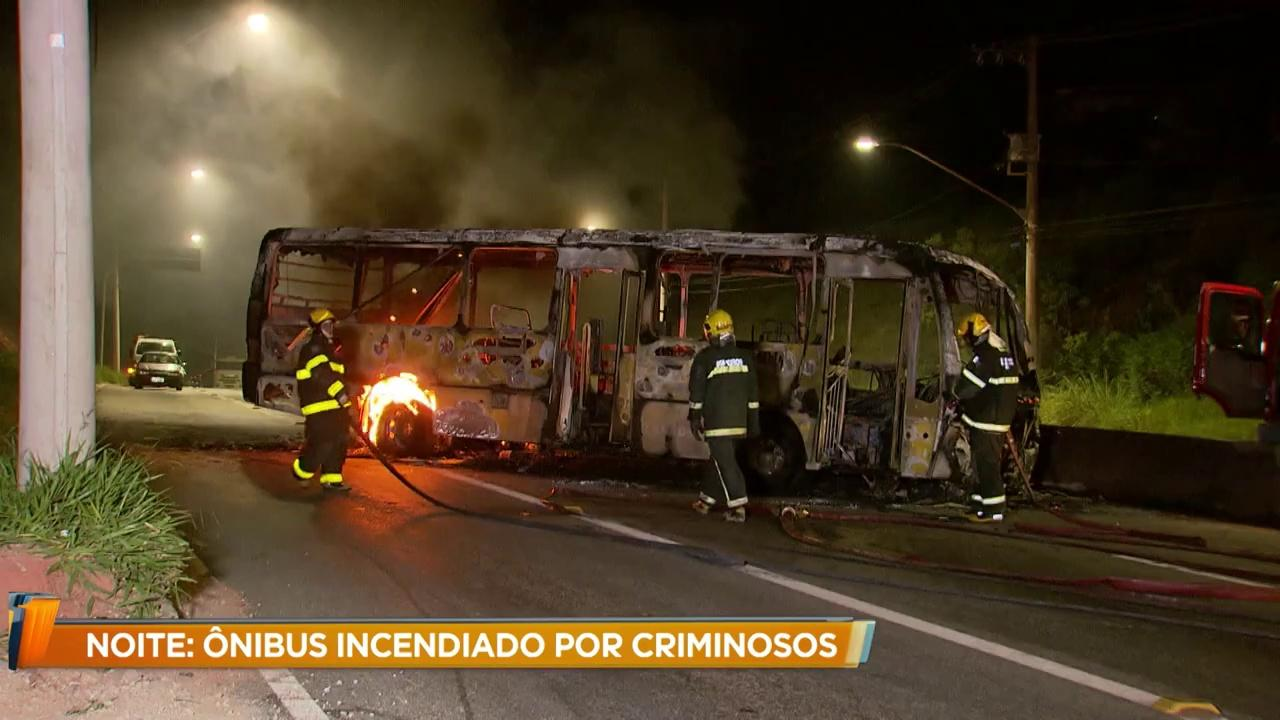fire: (362, 378, 440, 442)
smoke: (308, 98, 478, 230)
